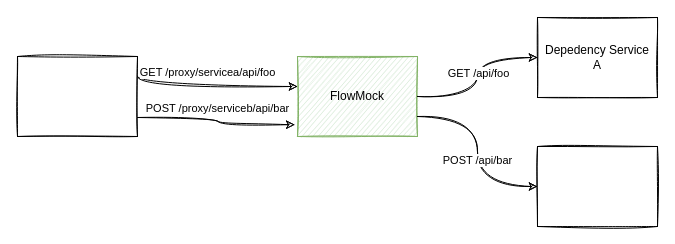
Image size: 675x244. Some labels were removed from this diagram. The shapes that lost their labels are listed below. From the top down, each one's centre as x and y in pixels, then its label:
At point 77,96: "Target Service".
At point 597,186: "Depedency Service B".
